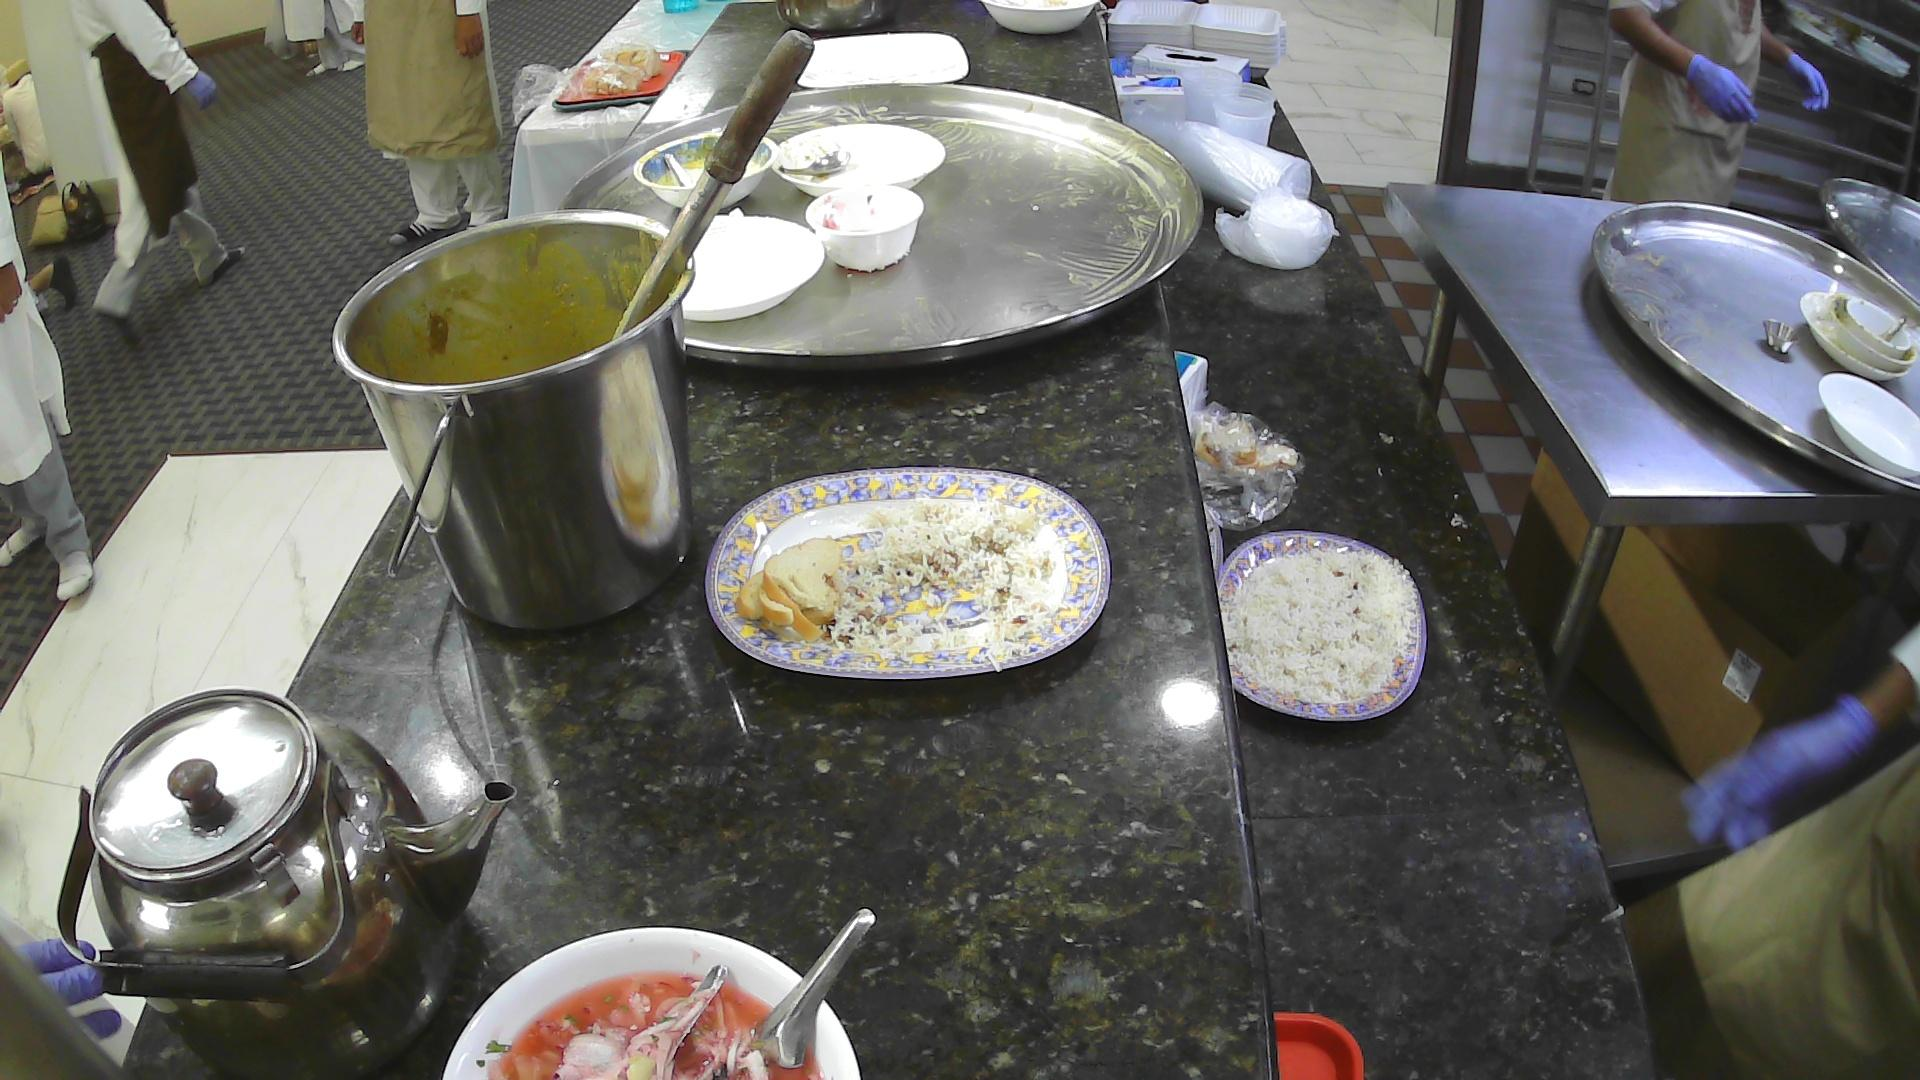thaal: (556, 80, 1207, 376), (1589, 200, 1920, 505), (1817, 174, 1920, 313)
